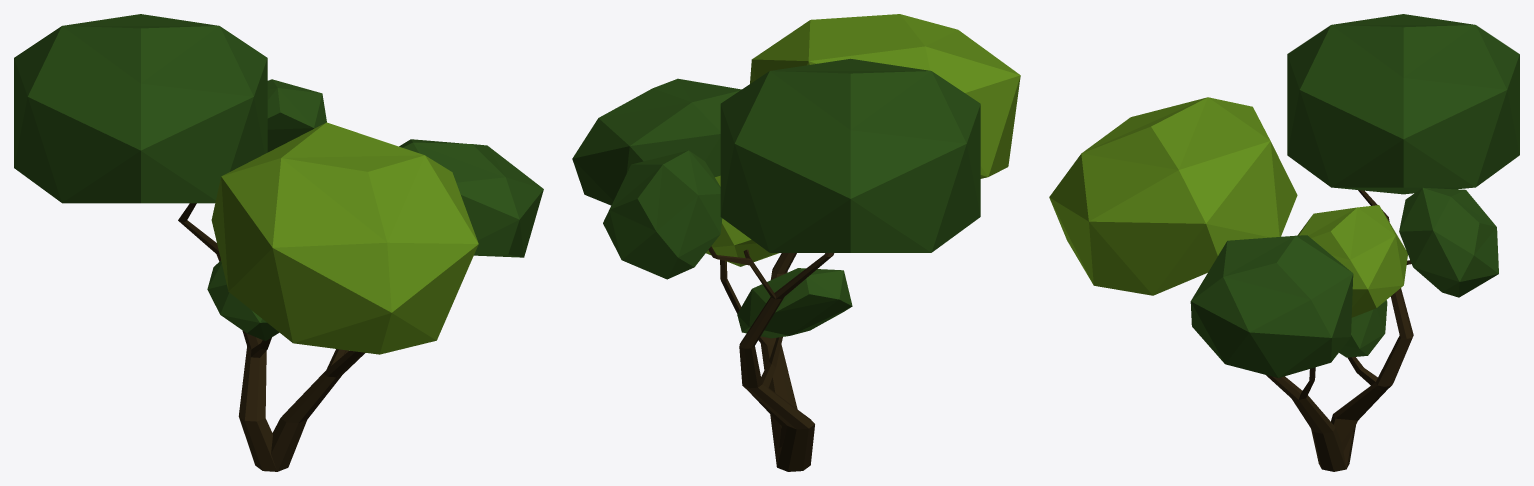
File: tree3.fbx
3 renders of one model, left to right at view 1: azimuth 30°, elevation 25°; view 2: azimuth 150°, elevation 25°; view 3: azimuth 270°, elevation 25°, orthographic. The views are drawn at different scales.
Parts seen in each view (by area): view 1: GeoSphere013, GeoSphere012, GeoSphere017, Cylinder004, GeoSphere015, GeoSphere014; view 2: GeoSphere012, GeoSphere013, GeoSphere015, GeoSphere017, Cylinder004, GeoSphere014, GeoSphere016; view 3: GeoSphere012, GeoSphere013, GeoSphere017, GeoSphere015, GeoSphere016, Cylinder004, GeoSphere014.
Boxes of the visible parts, x1,y1,x2,y2 form: GeoSphere013: (211,122,478,354); GeoSphere012: (14,14,267,203); GeoSphere017: (399,139,543,257); Cylinder004: (178,203,365,471); GeoSphere015: (267,79,326,152); GeoSphere014: (207,261,279,340); GeoSphere012: (720,58,980,252); GeoSphere013: (750,14,1020,178); GeoSphere015: (603,150,722,279); GeoSphere017: (572,78,741,205); Cylinder004: (708,246,834,471); GeoSphere014: (737,268,852,338); GeoSphere016: (706,175,778,266); GeoSphere012: (1287,14,1519,194); GeoSphere013: (1049,97,1297,295); GeoSphere017: (1190,235,1353,377); GeoSphere015: (1399,187,1498,297); GeoSphere016: (1297,205,1407,317); Cylinder004: (1266,190,1413,471); GeoSphere014: (1339,300,1387,357).
Size of the model in its own units: 923 by 881 by 949.
